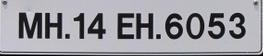character: (17, 10, 42, 40), (43, 11, 63, 40), (185, 12, 205, 40), (116, 10, 135, 39), (135, 10, 153, 40), (87, 11, 106, 39), (164, 12, 183, 39), (207, 12, 226, 39), (228, 12, 246, 39), (73, 11, 85, 40)
